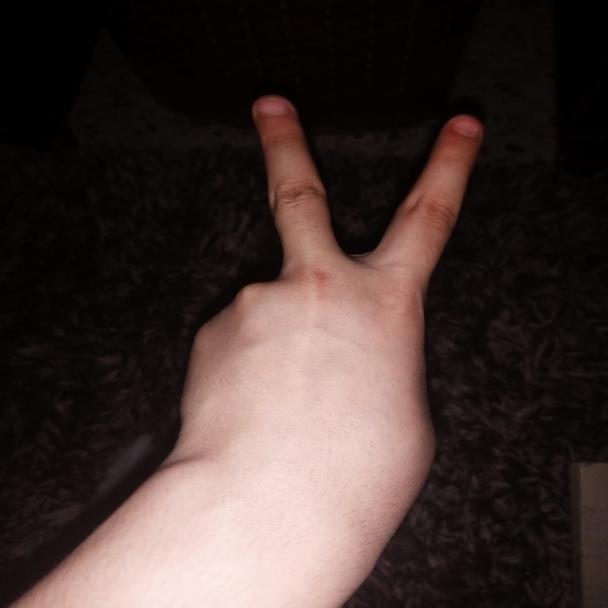two: (188, 85, 493, 522)
